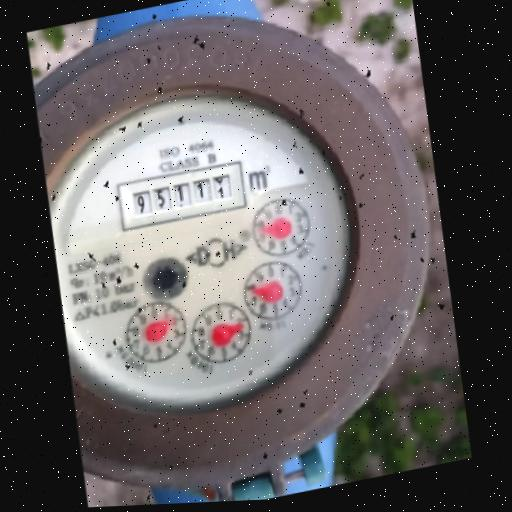0: (214, 174, 232, 198)
1: (174, 182, 192, 207), (194, 178, 211, 202)
5: (154, 186, 172, 211)
9: (133, 191, 152, 217)
border_water_meter_number: (113, 158, 248, 232)
